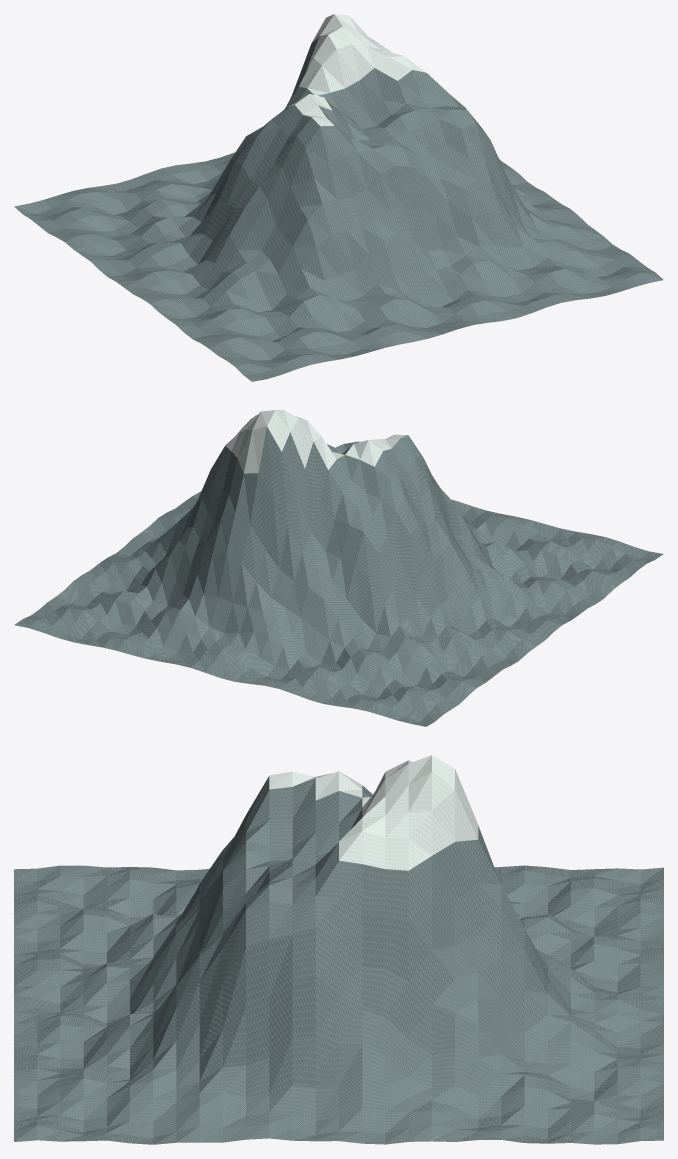
Rendered from distant_snow_mountain_03.glb.
3 renders of one model, top to bottom at view 1: azimuth 30°, elevation 25°; view 2: azimuth 150°, elevation 25°; view 3: azimuth 270°, elevation 25°, orthographic. The views are drawn at different scales.
Parts seen in each view (by area): view 1: massif, snow_peak; view 2: massif, snow_peak; view 3: massif, snow_peak.
Boxes of the visible parts, x1,y1,x2,y2 form: massif: (14,36,663,381); snow_peak: (287,14,426,126); massif: (14,426,663,726); snow_peak: (225,410,408,473); massif: (14,776,663,1144); snow_peak: (269,755,478,870).
Bounding box in the file's own units: 220 × 105 × 220.
2 materials, 2 textured.
